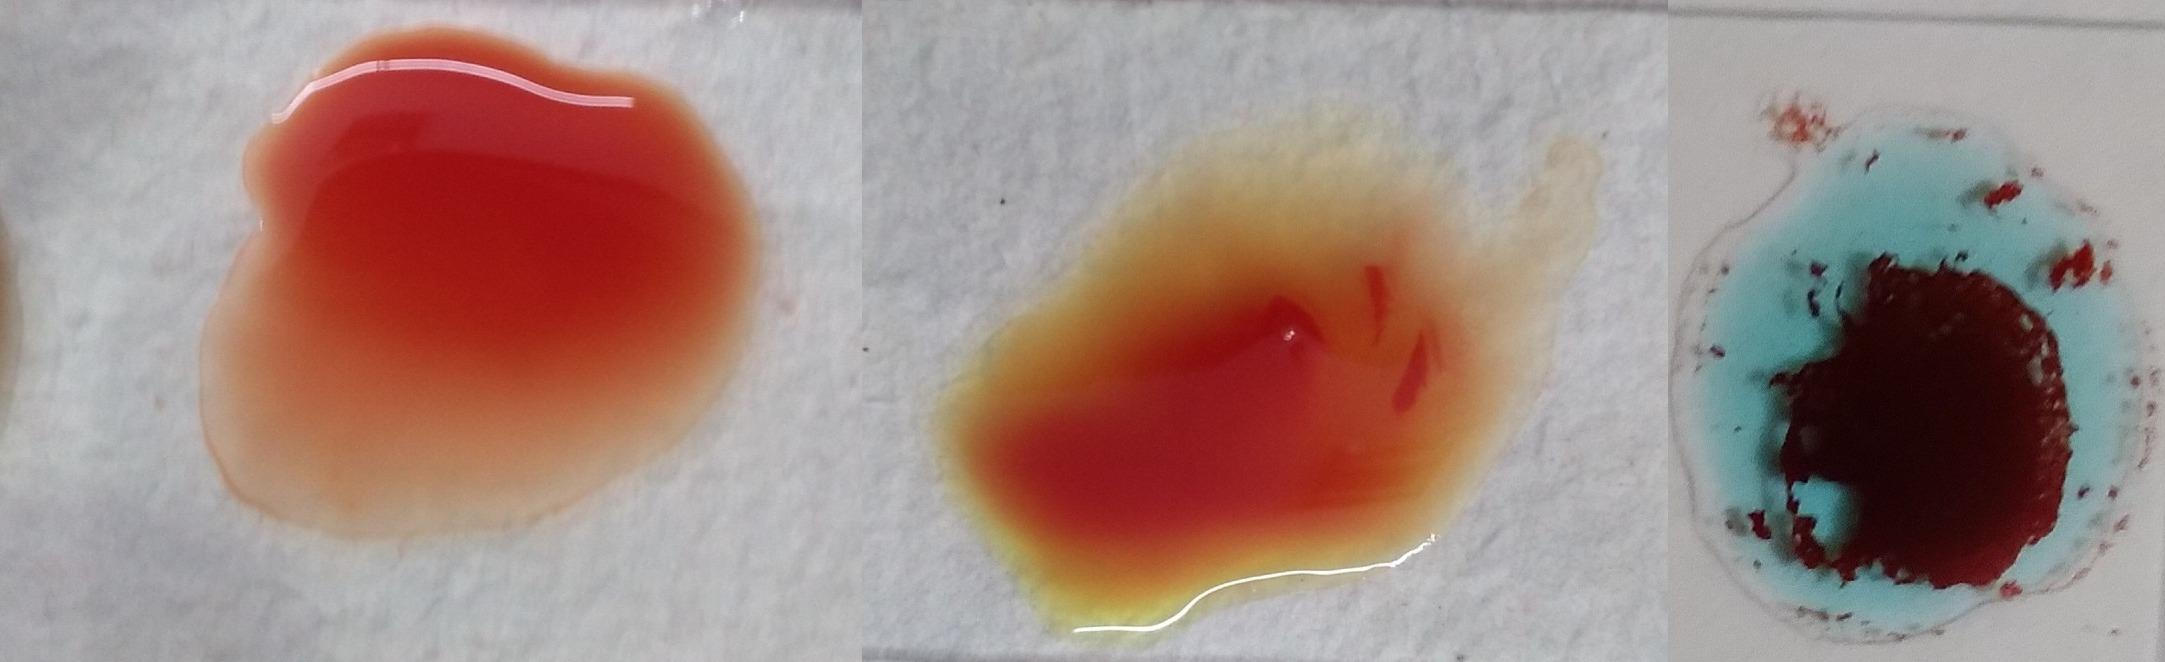A: (1694, 120, 2125, 639)
